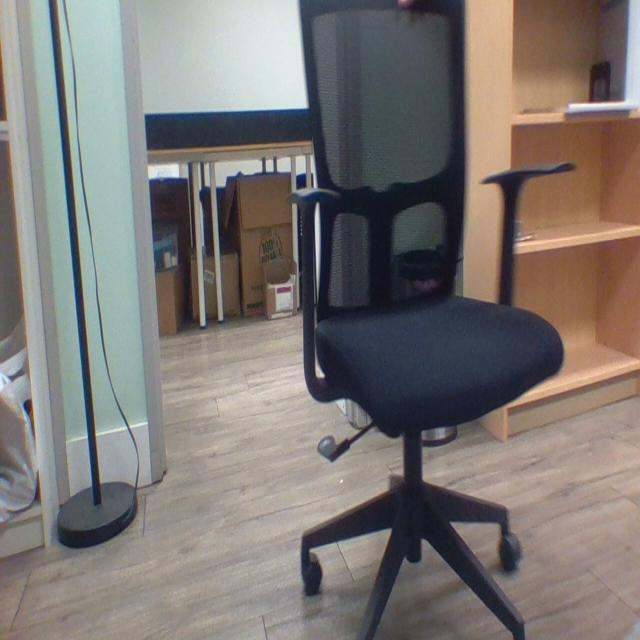black-chair: (286, 0, 582, 639)
